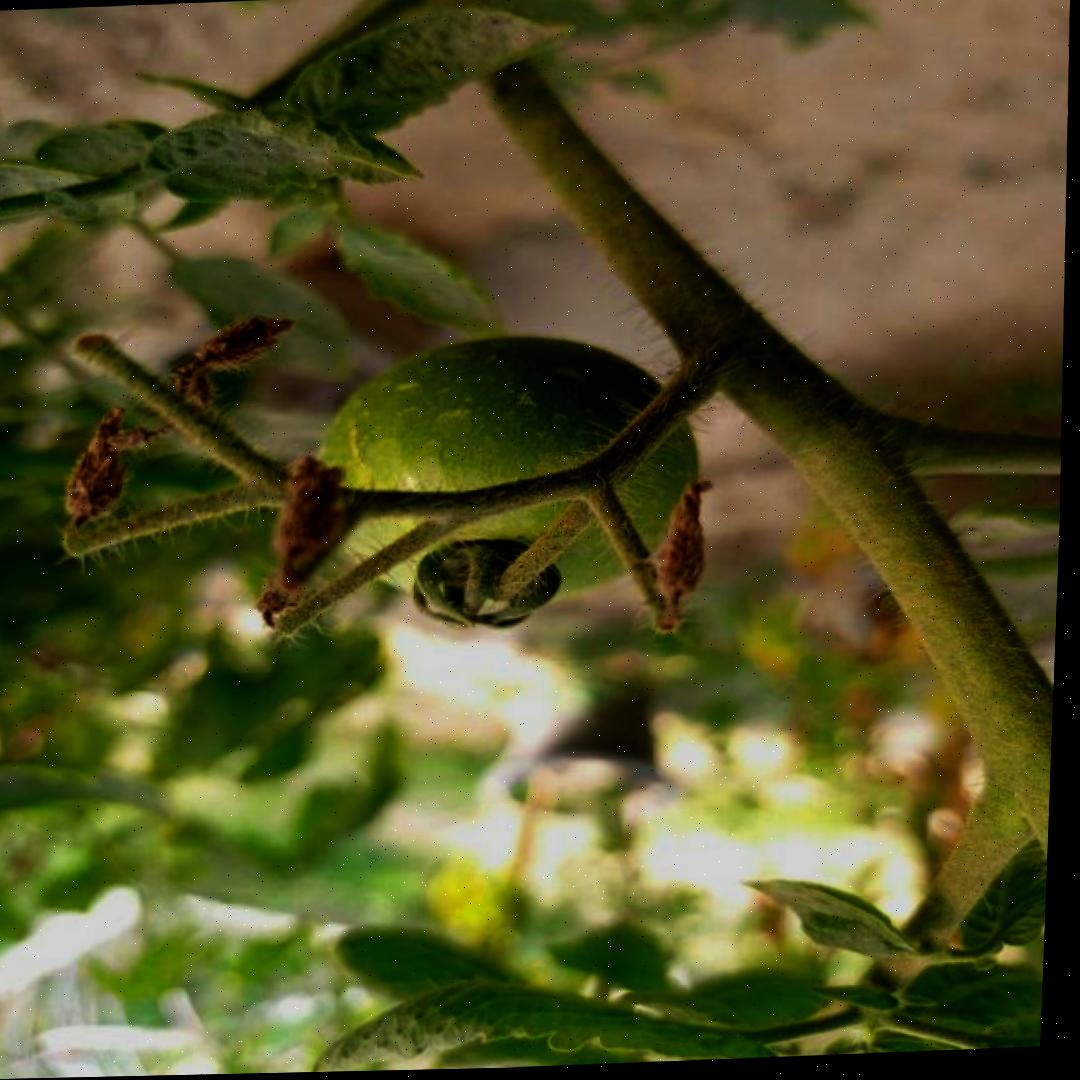mentah: (310, 327, 708, 609)
